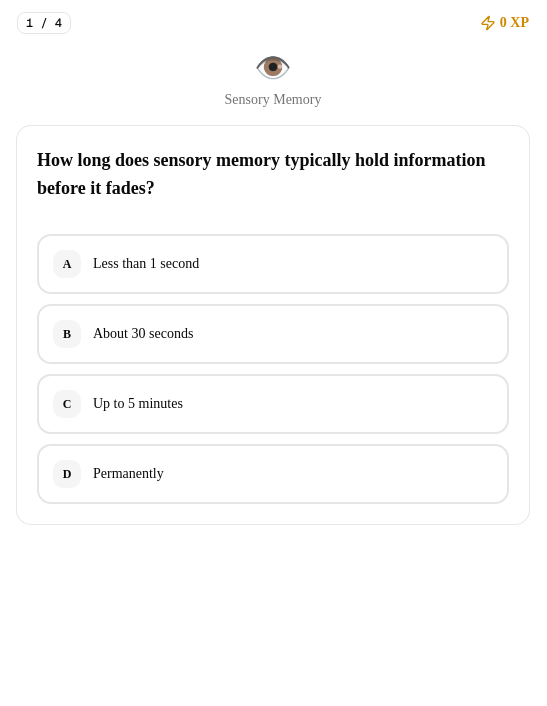
Test: QuizView Component › reduces XP for multiple attempts
The image size is (547, 706).
Note: Wrong answer first
Click the text "About 30 seconds" at (143,334), box [93,326,193,341]
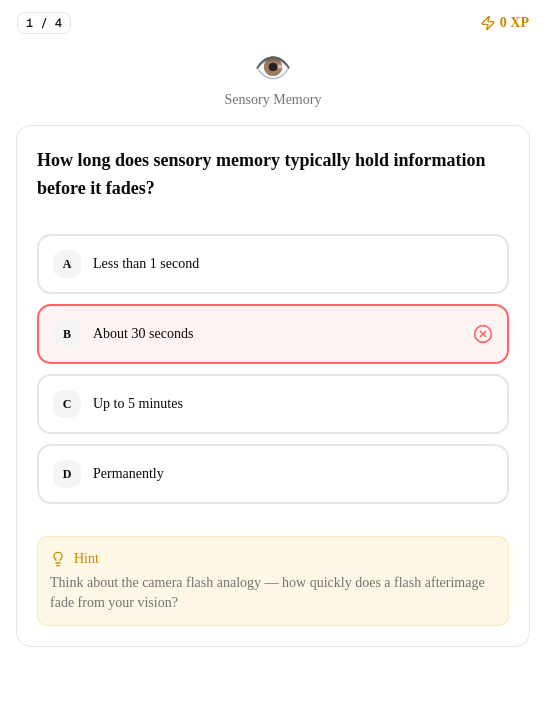
Note: Then correct
Click the text "Less than 1 second" at (146,264), box [93,256,199,271]
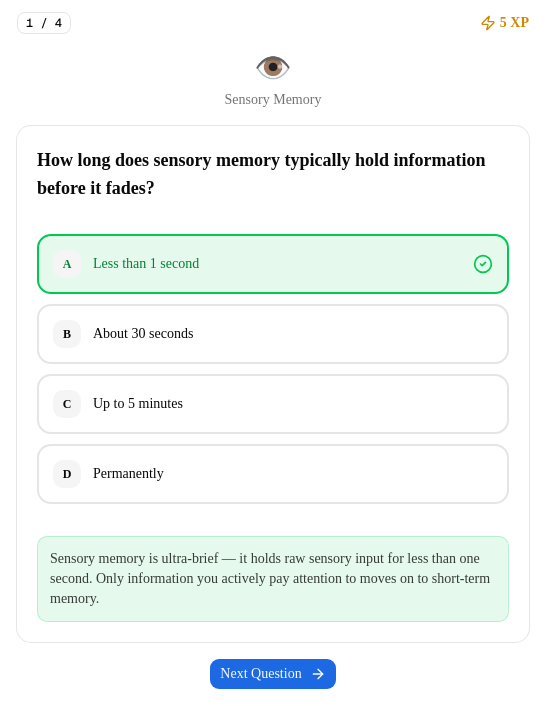
Expected: the text "5 XP" is shown, [480,13,529,33]
